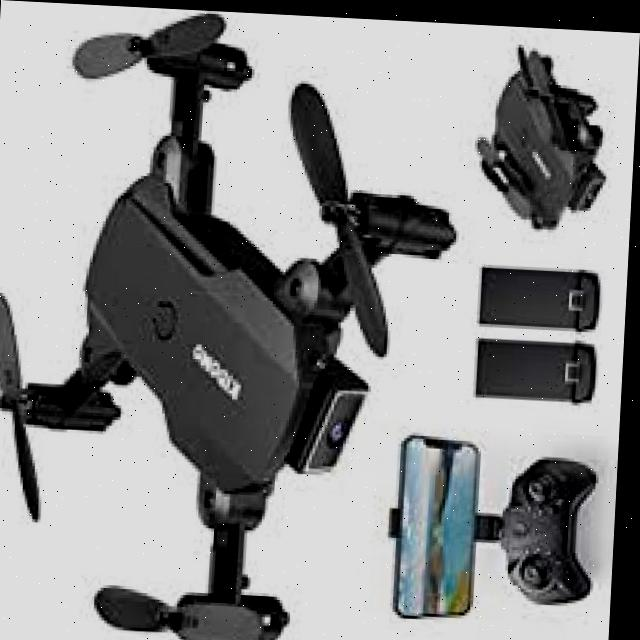drone: (0, 0, 460, 640)
